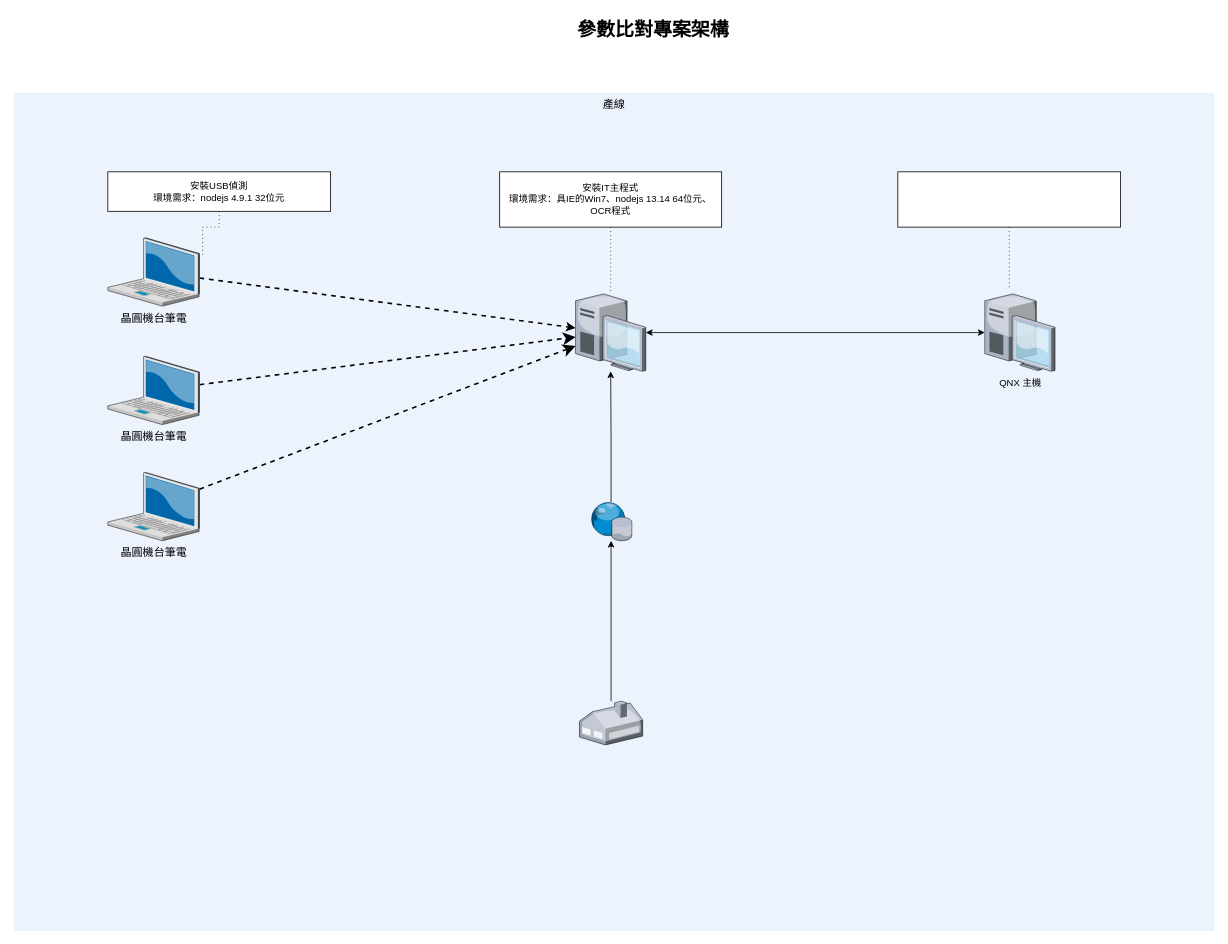
The diagram is 1228 pixels wide and 944 high, and some of its shapes have lost their labels. The shapes that lost their labels are listed below. From the top down, each one's centre as x and y in pixels, then its label:
(x=1009, y=199): 安裝QNX主程式 環境需求：nodejs 13.14 64位元、ffftp、phindows、以機台名稱命名的網路介面
(x=610, y=332): IT 主機
(x=611, y=521): 網路硬碟（listenRecipeTxtFileDrive）
(x=610, y=723): 產線IT
